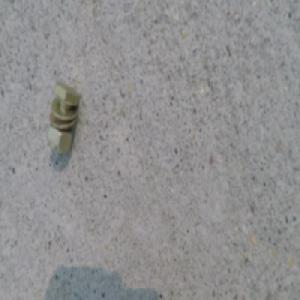BoltNutSet: (48, 85, 80, 157)
